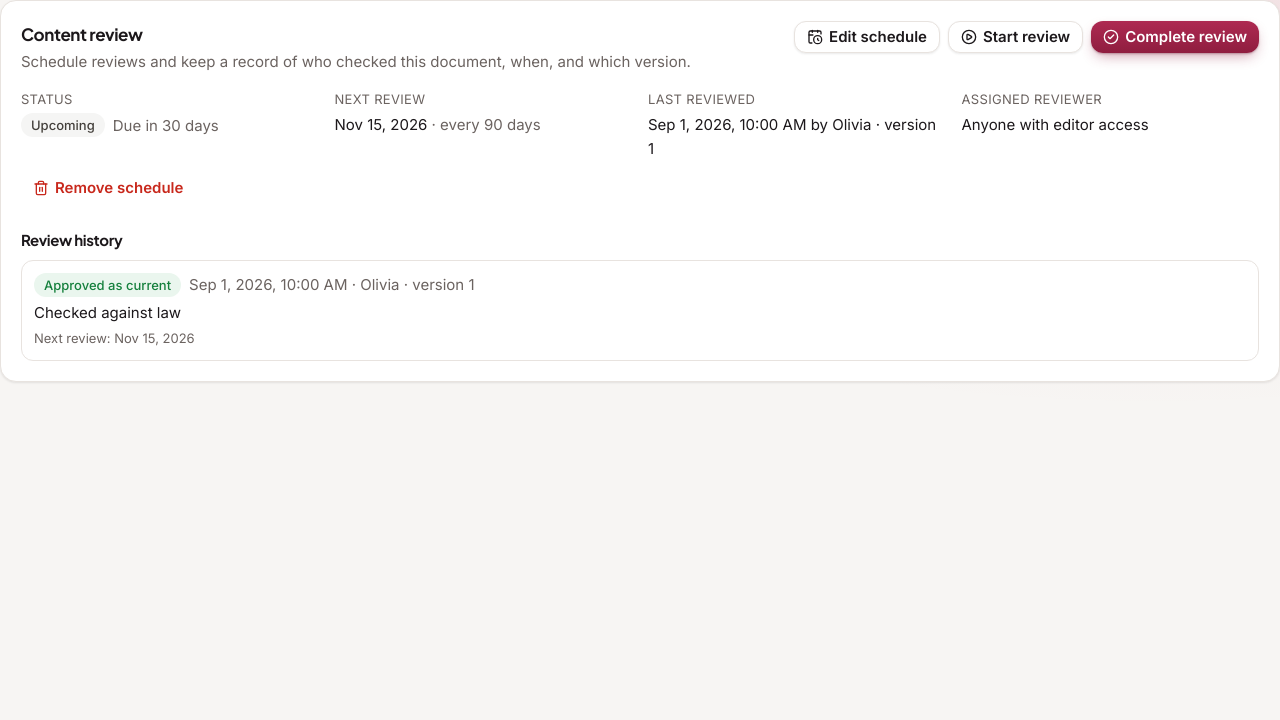
DocumentReviewPanel › shows the server message if recording fails, and an error state when loading fails
Click the button "Complete review".
click(1175, 37)  # box [1091, 21, 1259, 53]
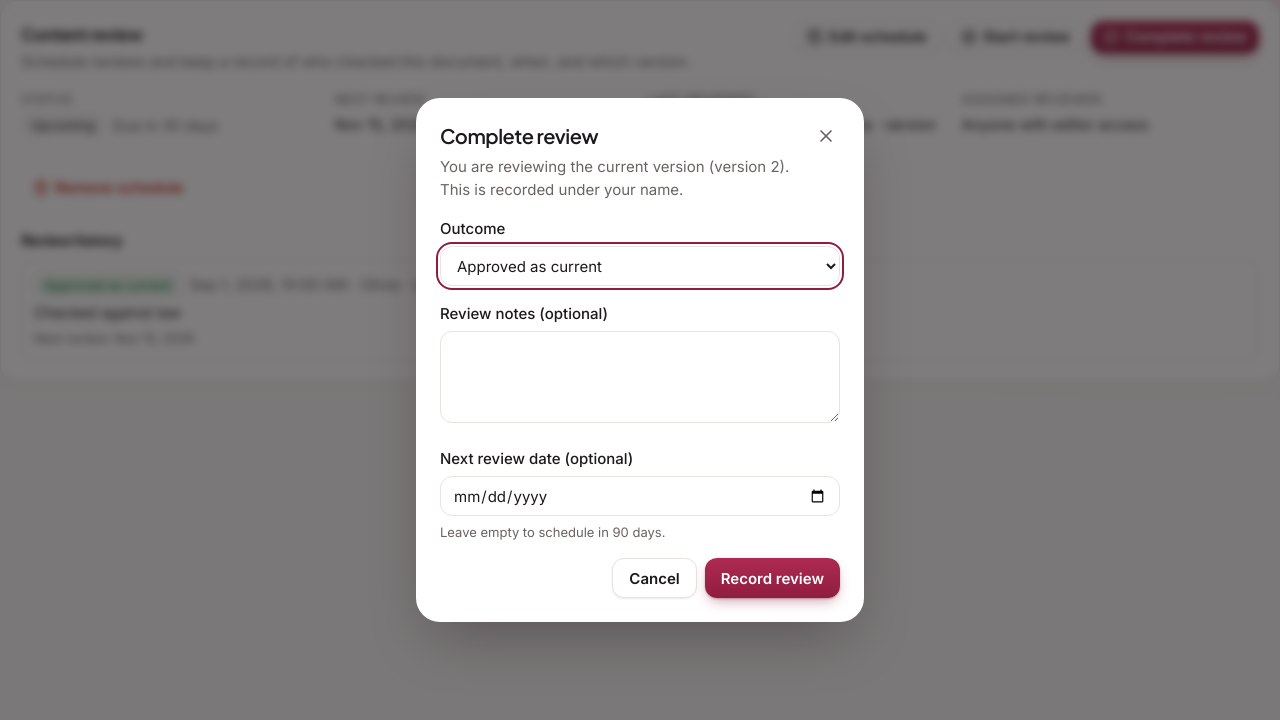
Click the button "Record review".
click(772, 578)  # box [705, 558, 840, 598]
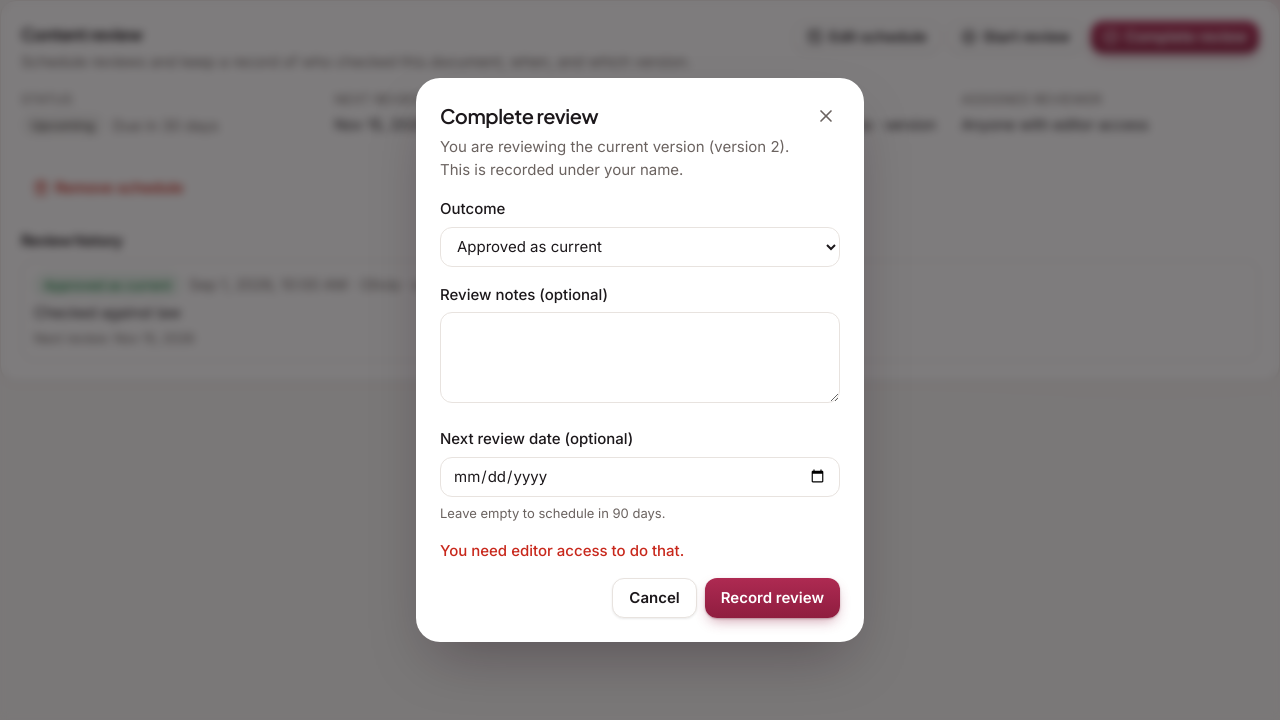
Check: the text "You need editor access to do that." is shown, box [440, 541, 684, 560]
